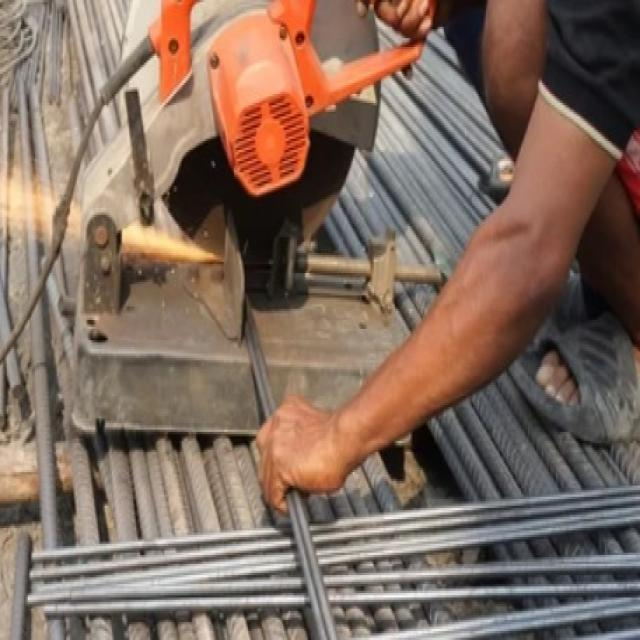not-gloved: (252, 389, 347, 517)
